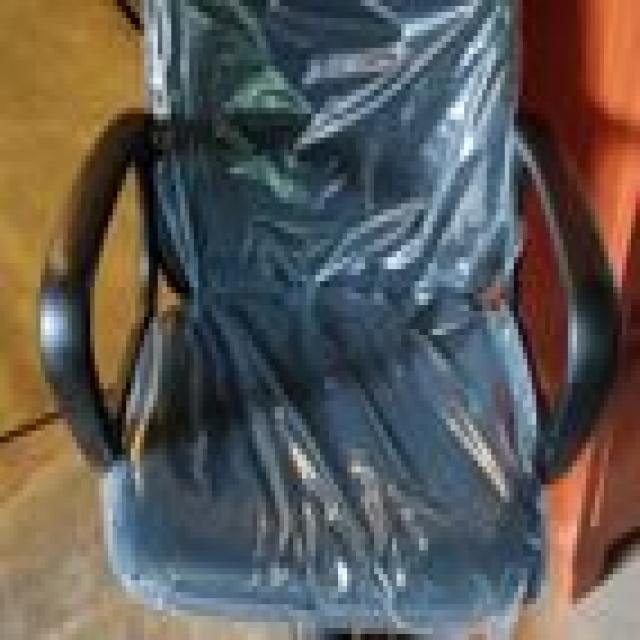others: (41, 6, 622, 634)
